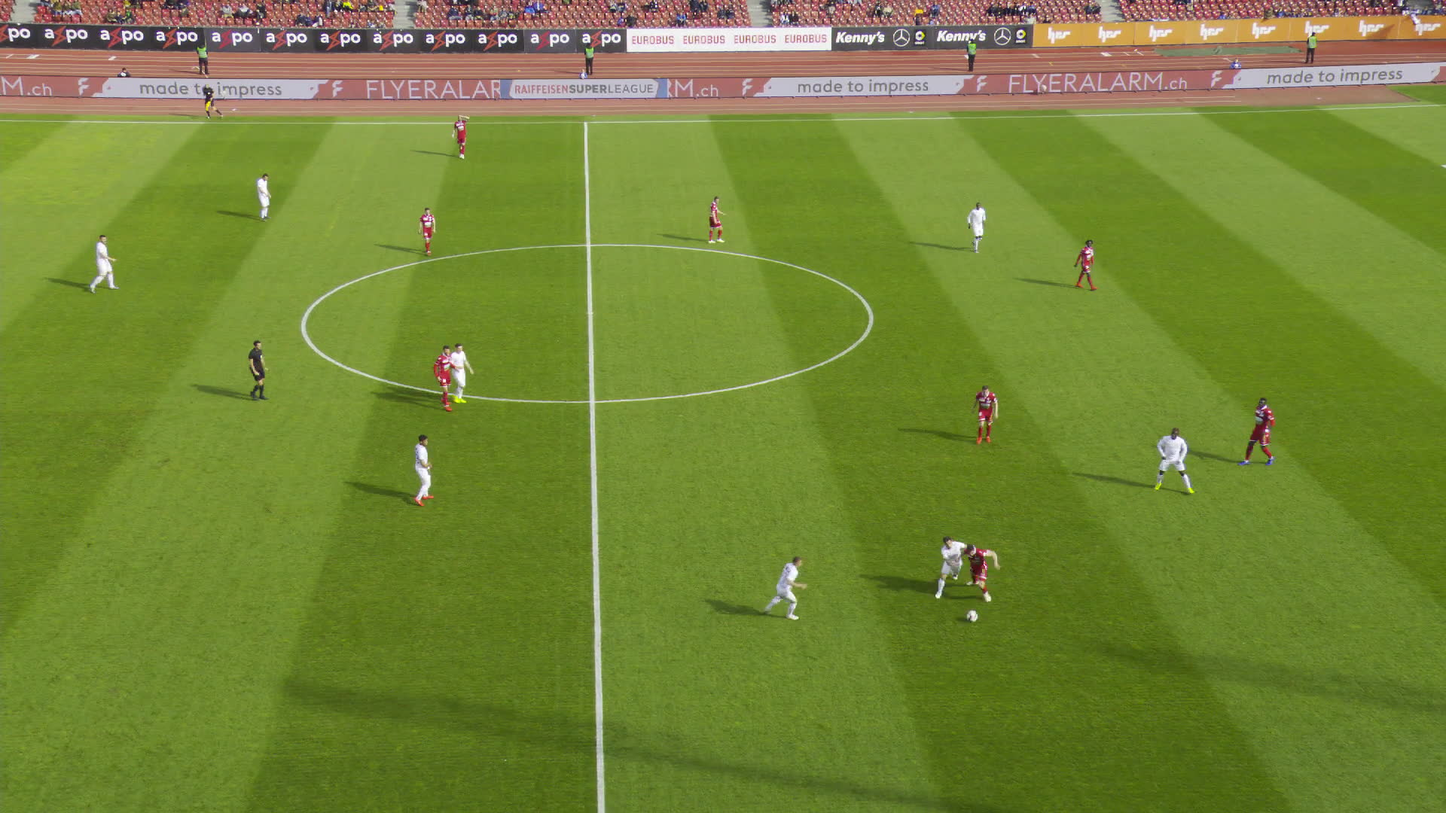ball: (968, 607, 979, 617)
player: (758, 552, 801, 621), (1237, 396, 1277, 470), (1153, 425, 1194, 495), (960, 543, 1001, 604), (934, 535, 974, 596), (88, 234, 120, 294), (412, 435, 436, 507), (430, 344, 455, 410), (973, 386, 997, 445), (449, 343, 471, 404), (1072, 239, 1094, 290), (705, 196, 728, 243), (966, 201, 985, 253), (452, 114, 471, 160), (417, 207, 435, 254), (257, 173, 273, 221)
referee: (245, 340, 269, 401), (200, 82, 220, 120)
